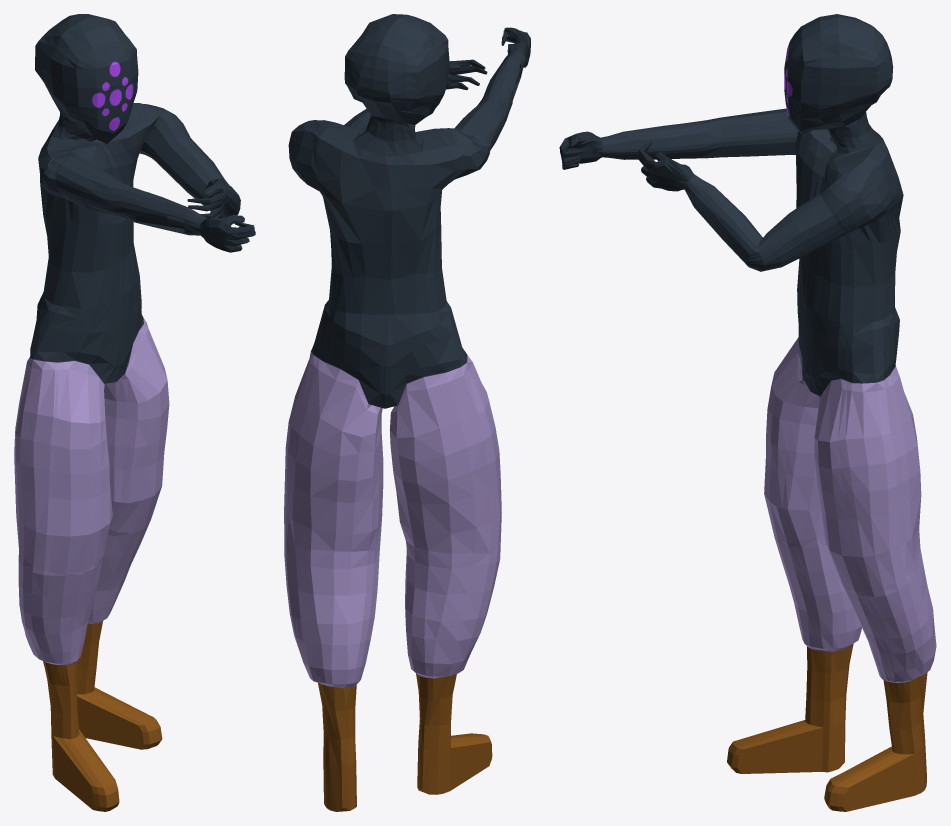
The model's file is Oracle_Attack_000009.obj.
3 renders of one model, left to right at view 1: azimuth 30°, elevation 25°; view 2: azimuth 150°, elevation 25°; view 3: azimuth 270°, elevation 25°, orthographic. The views are drawn at different scales.
Parts seen in each view (by area): view 1: Cube; view 2: Cube; view 3: Cube.
Part boxes in pixels (box(x1,y1,x2,y2)): Cube: box(14, 14, 255, 811); Cube: box(284, 14, 530, 811); Cube: box(559, 14, 936, 811).
Bounding box in the file's own units: 1.07 × 3.94 × 1.76.
